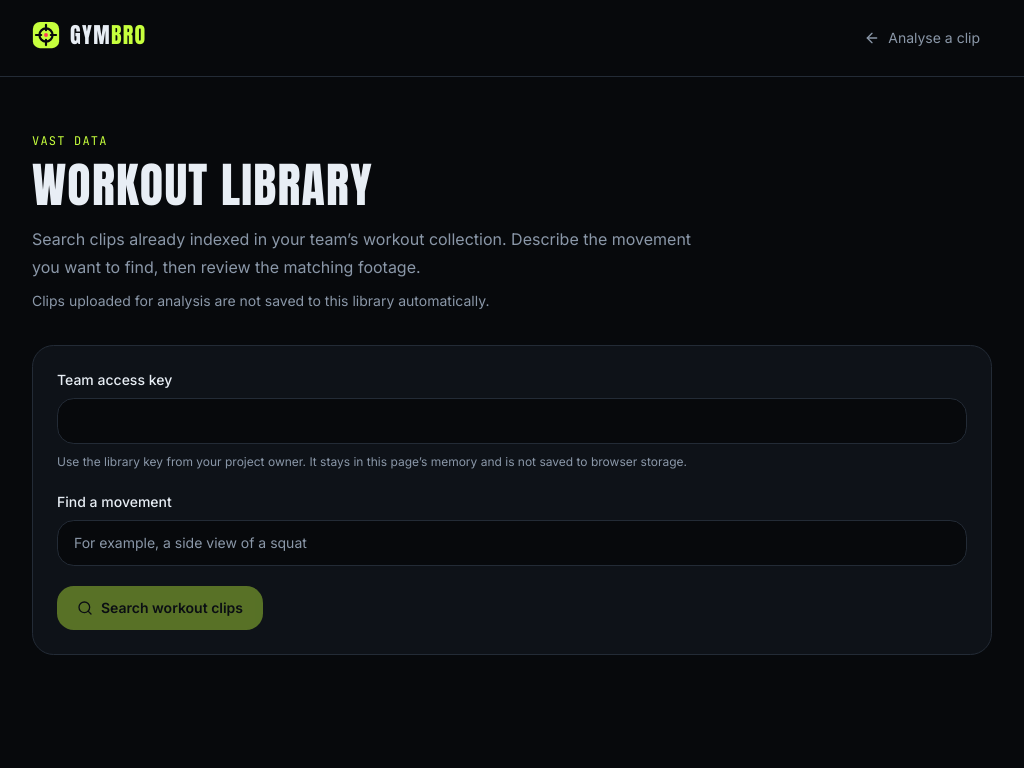
Scenario: indexed workout library › does not show upstream error bodies or treat an auth failure as no matches
Type "test-team-key-with-at-least-32-characters" into the password field labelled "Team access key" at (512, 421), box [57, 398, 967, 444]
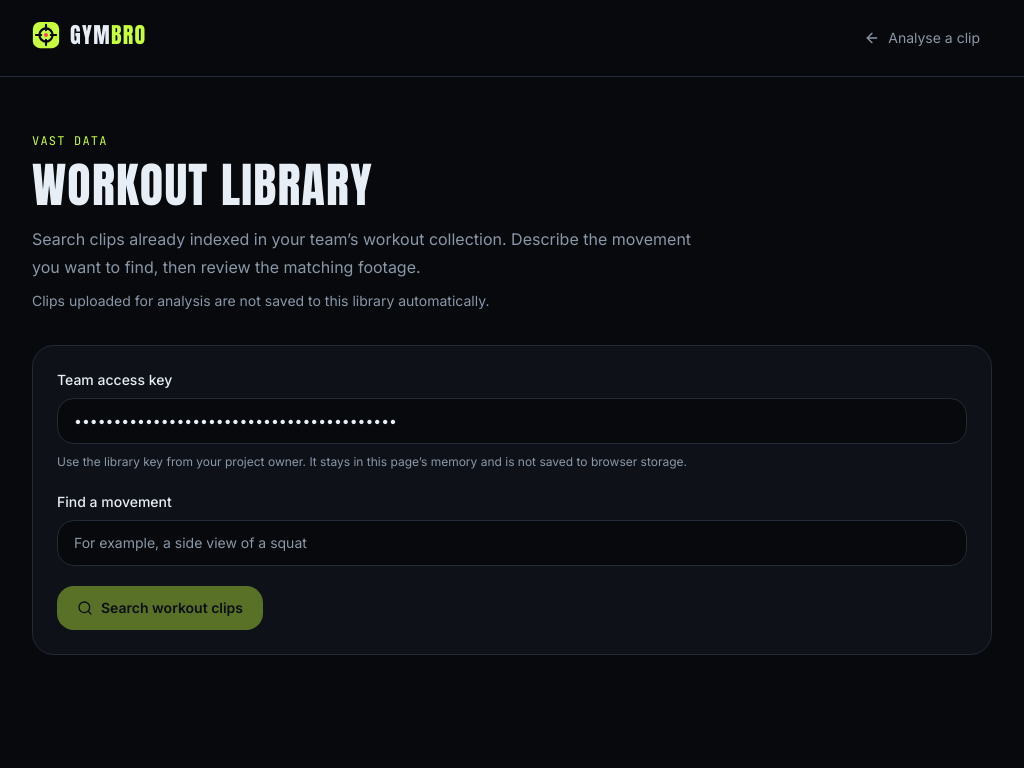
Type "side view of a squat" into the search field labelled "Find a movement" at (512, 543), box [57, 520, 967, 566]
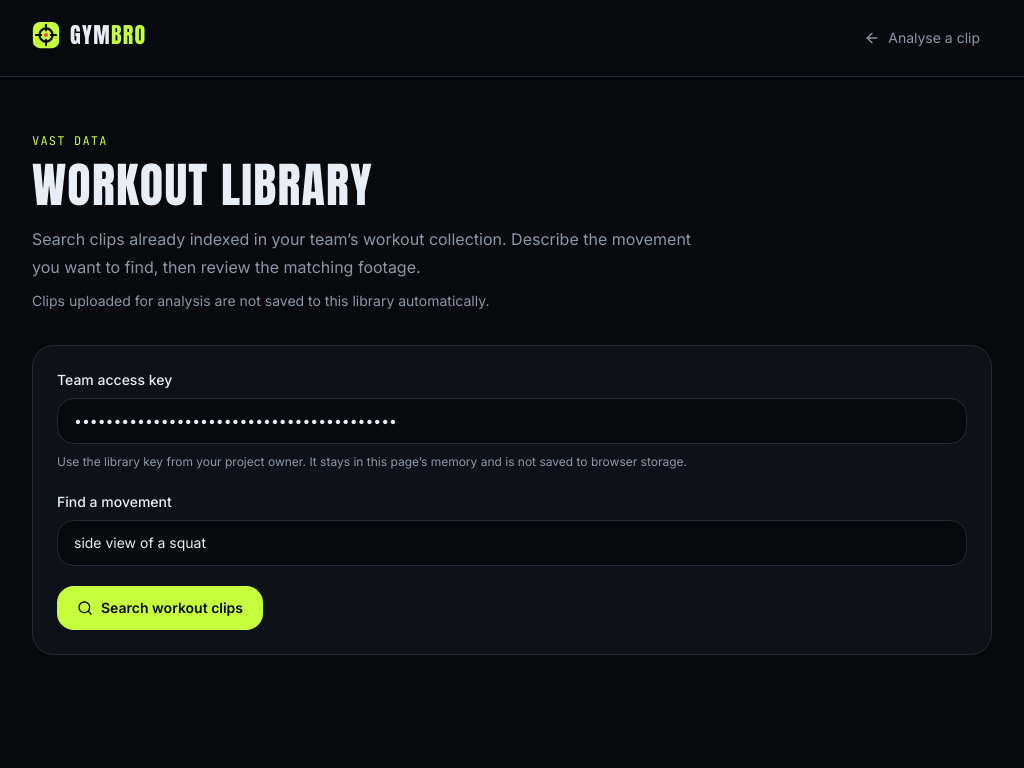
Click the button "Search workout clips" at (160, 608), box [57, 586, 263, 630]
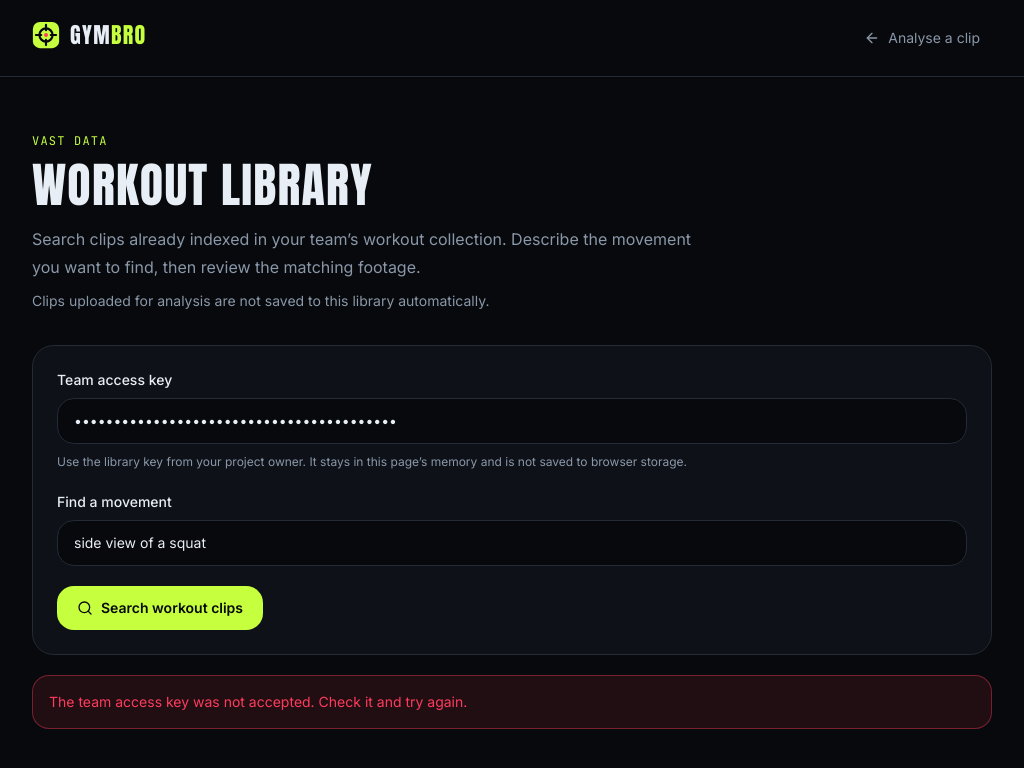
Expected: the message shows "The team access key was not accepted", [49, 693, 467, 710]
